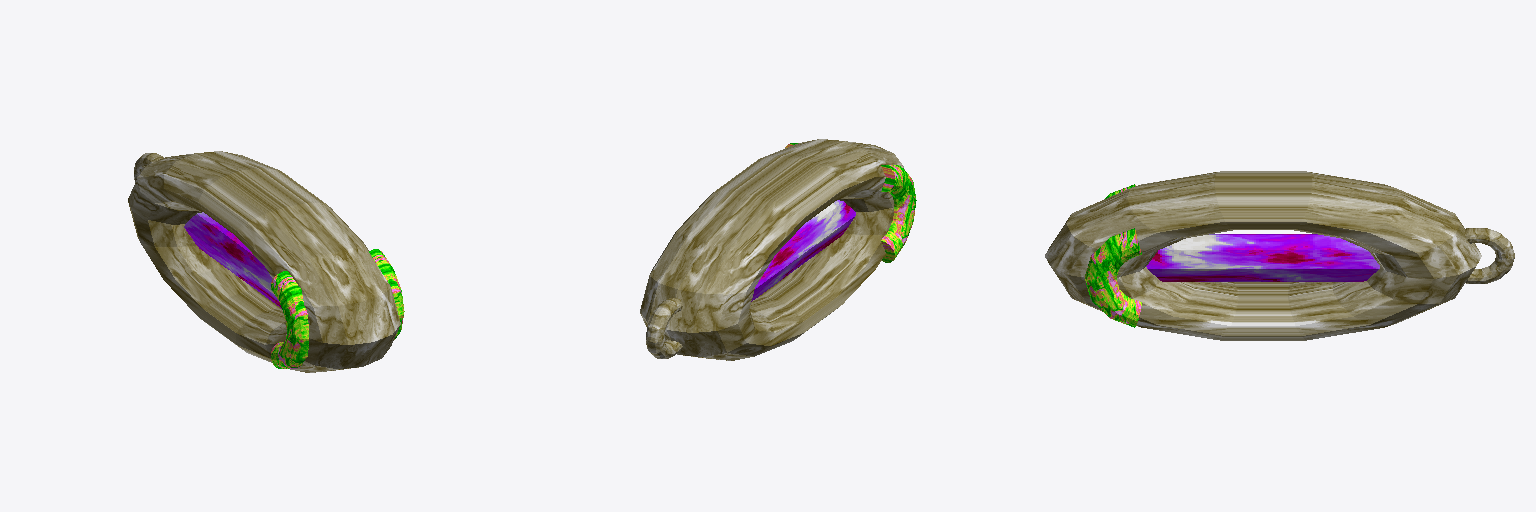
3 renders of one model, left to right at view 1: azimuth 30°, elevation 25°; view 2: azimuth 150°, elevation 25°; view 3: azimuth 270°, elevation 25°, orthographic.
Visible parts, largest first — view 1: outside, front, inside; view 2: outside, inside, front, back; view 3: outside, inside, front, back.
Boxes of the visible parts, <box> form: outside: <box>128,151,400,372</box>; front: <box>271,249,404,368</box>; inside: <box>184,212,281,308</box>; outside: <box>640,139,904,360</box>; inside: <box>751,200,855,301</box>; front: <box>785,143,916,262</box>; back: <box>646,298,682,358</box>; outside: <box>1045,171,1481,340</box>; inside: <box>1146,234,1379,281</box>; front: <box>1085,184,1141,327</box>; back: <box>1465,228,1514,283</box>.
Size of the model in its own units: 7.2 by 8.99 by 26.12.
4 materials, 3 textured.